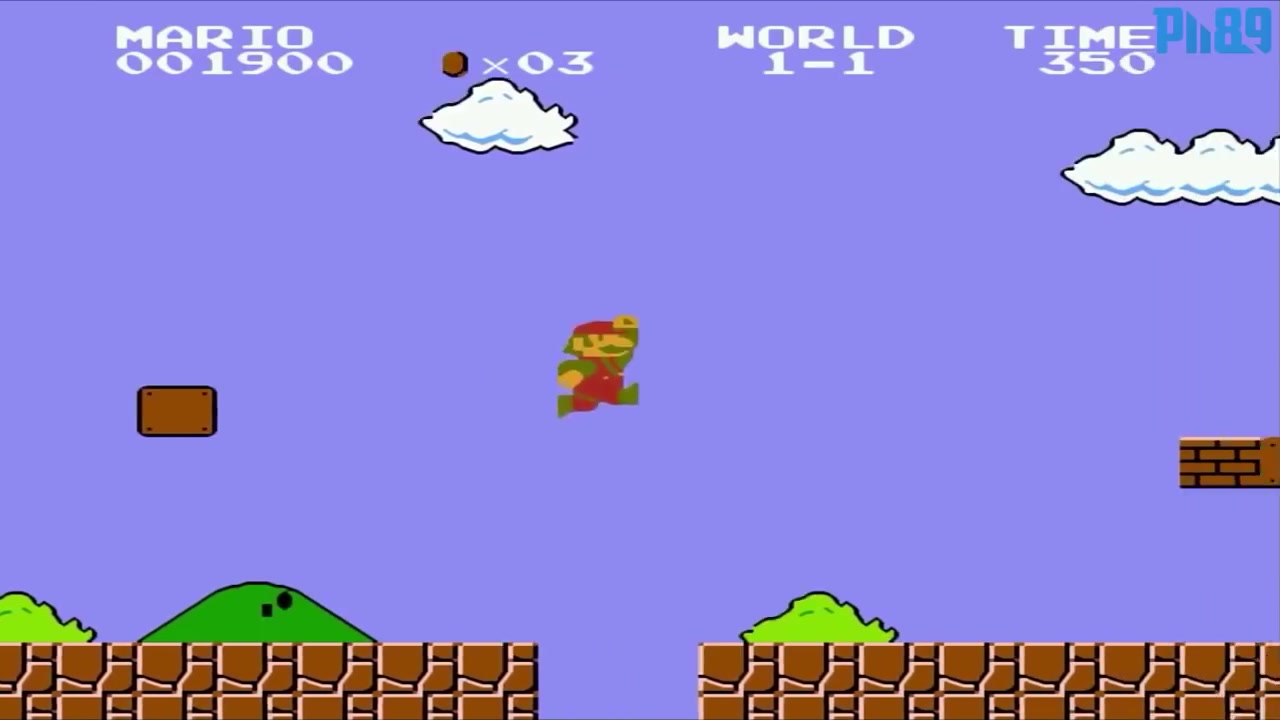mario: (553, 305, 642, 425)
